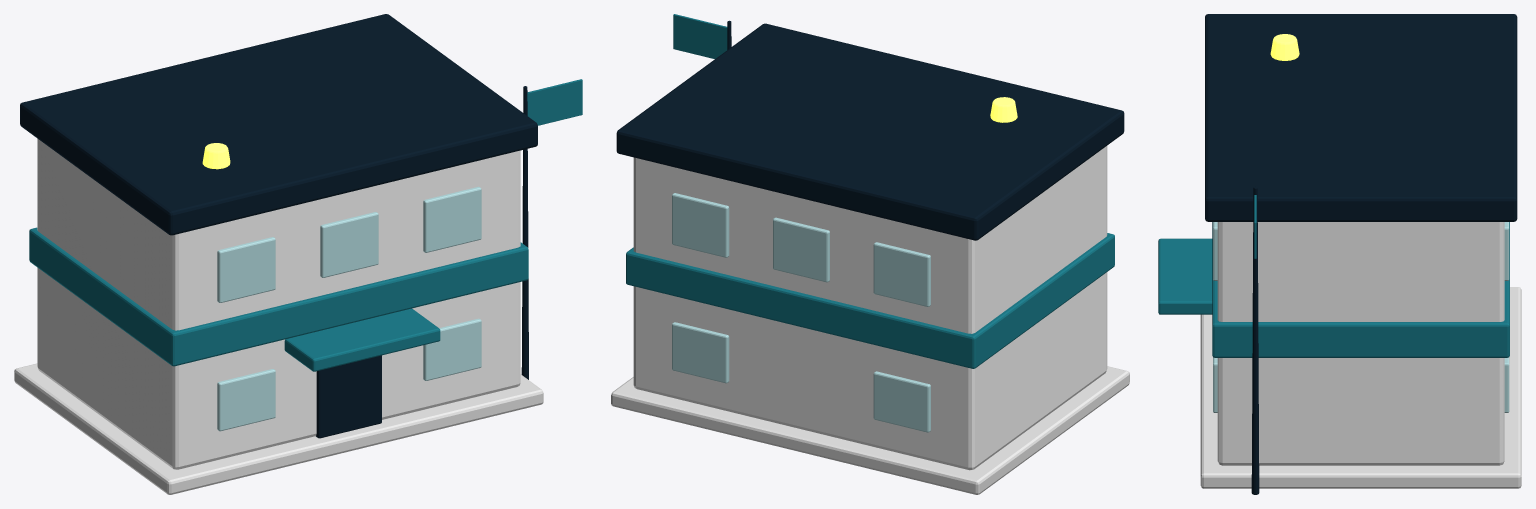
The model's file is police_post.glb.
The picture shows the model from 3 angles, left to right: view 1: azimuth 30°, elevation 25°; view 2: azimuth 150°, elevation 25°; view 3: azimuth 270°, elevation 25°; orthographic projection. The views are drawn at different scales.
Visible parts, largest first — view 1: police_post; view 2: police_post; view 3: police_post.
Boxes of the visible parts, x1=… form: police_post: x1=14, y1=14, x2=582, y2=494; police_post: x1=611, y1=14, x2=1129, y2=494; police_post: x1=1158, y1=14, x2=1521, y2=494.
Bounding box in the file's own units: 12.4 × 8.03 × 8.6.
